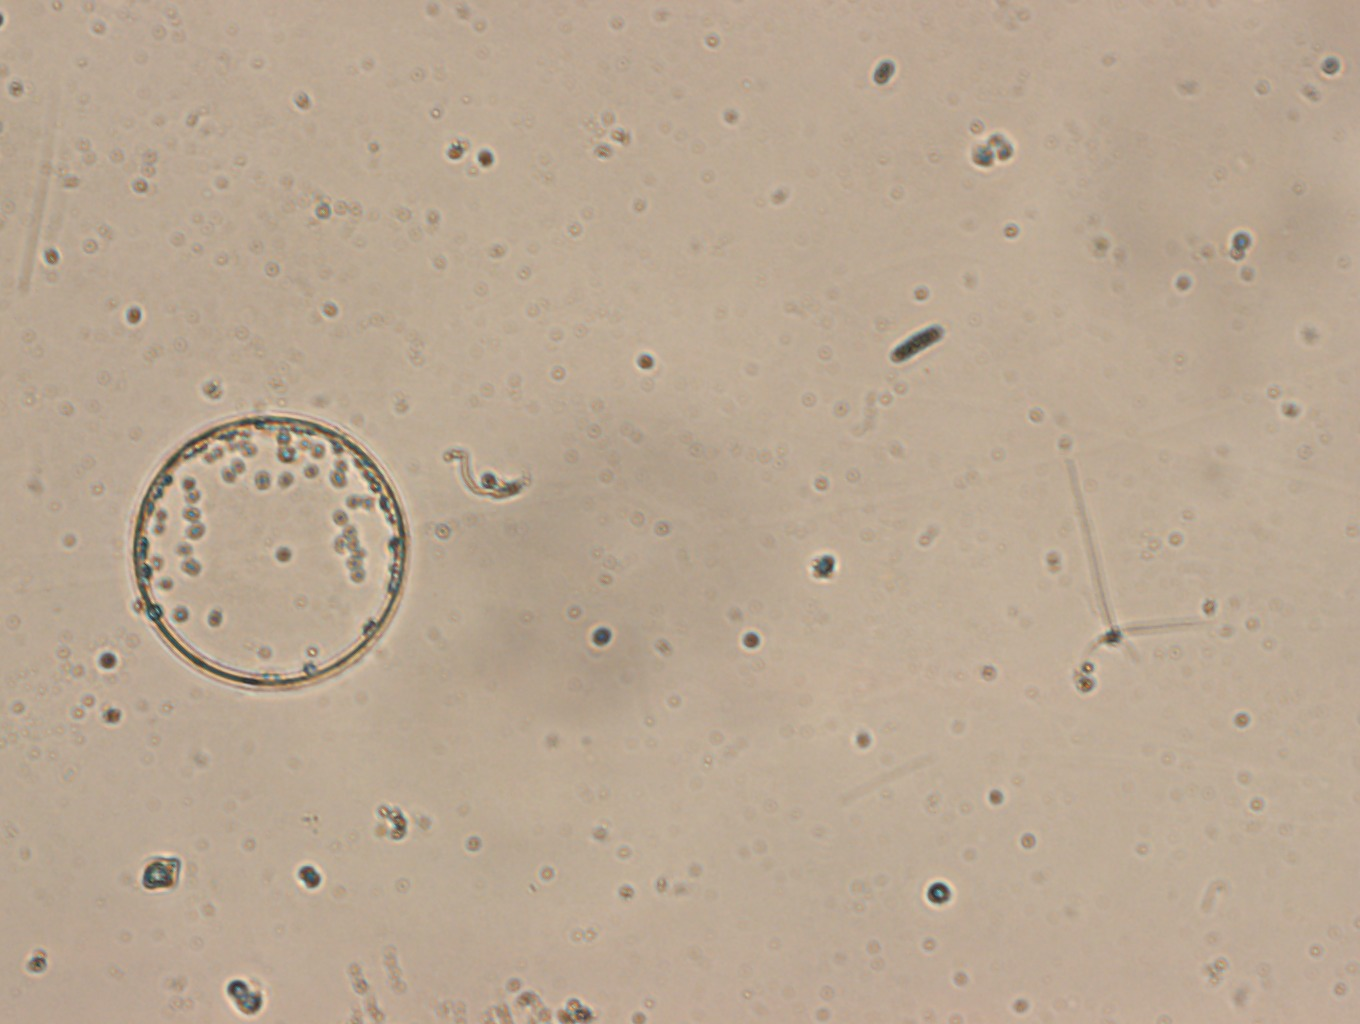coscinodiscus: (132, 413, 405, 685)
